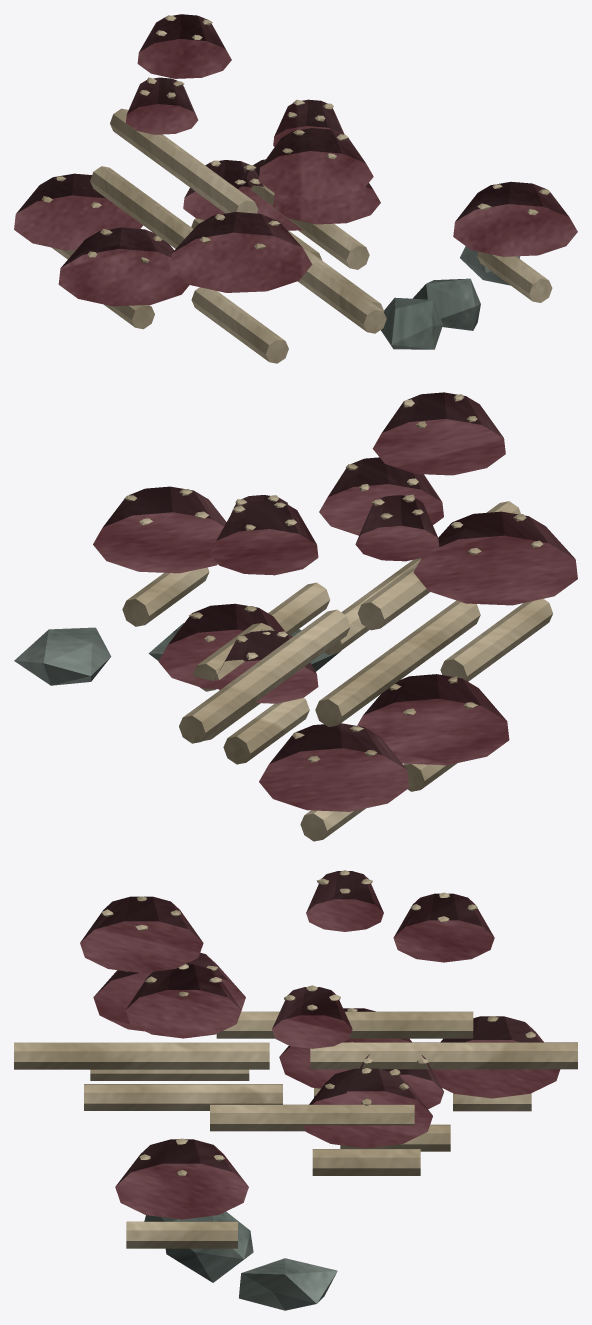
File: 0217_mushroom_patch_17.glb
The picture shows the model from 3 angles, top to bottom: view 1: azimuth 30°, elevation 25°; view 2: azimuth 150°, elevation 25°; view 3: azimuth 270°, elevation 25°; orthographic projection. The views are drawn at different scales.
Parts seen in each view (by area): view 1: cloth, bone, stone; view 2: cloth, bone, stone; view 3: cloth, bone, stone.
Boxes of the visible parts, left/top/right/bottom form: cloth: left=14, top=14, right=577, bottom=306; bone: left=42, top=15, right=552, bottom=363; stone: left=381, top=246, right=519, bottom=349; cloth: left=93, top=392, right=577, bottom=811; bone: left=122, top=394, right=552, bottom=841; stone: left=14, top=623, right=340, bottom=685; cloth: left=80, top=871, right=560, bottom=1219; bone: left=14, top=870, right=577, bottom=1248; stone: left=144, top=1211, right=337, bottom=1310.
Size of the model in its own units: 2.25 by 1.3 by 2.37.
Materials: 3 (3 with a texture image).
